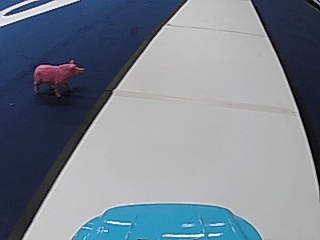pig: (30, 57, 84, 96)
